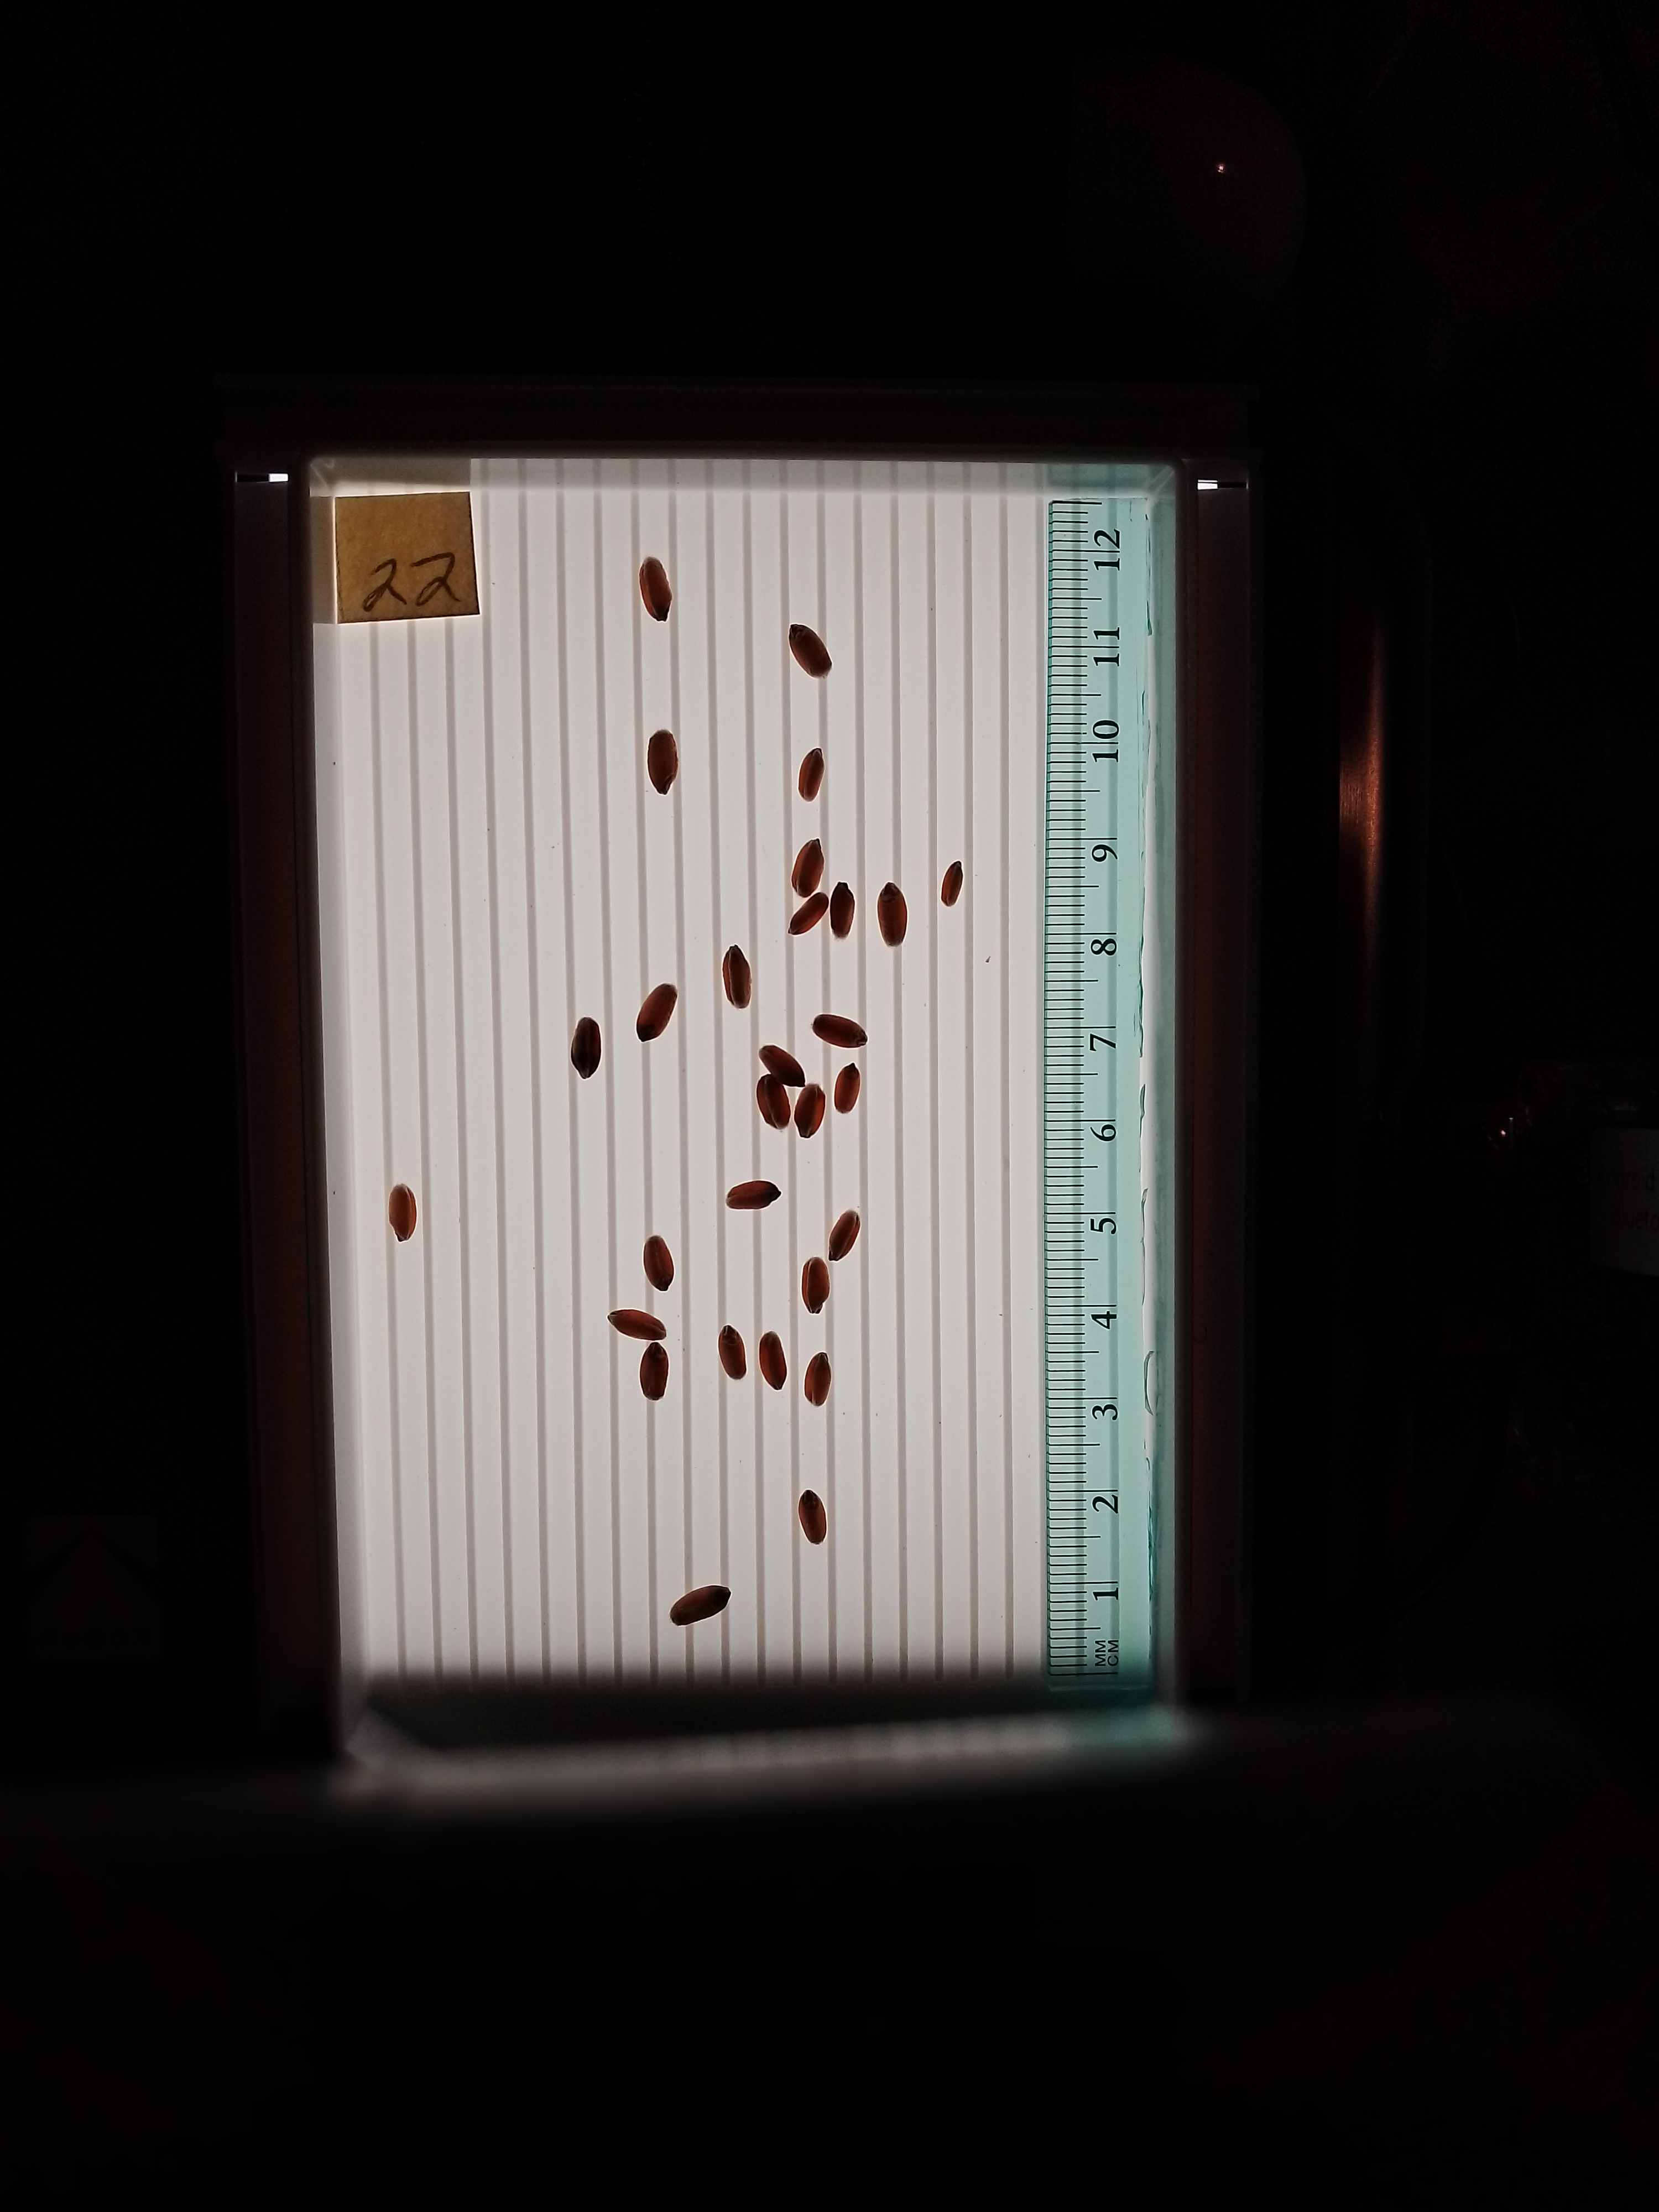seed mask: (670, 1585, 732, 1626), (789, 624, 833, 679), (636, 983, 677, 1041), (638, 558, 672, 622), (758, 1045, 806, 1089), (876, 883, 908, 948), (791, 838, 826, 897), (606, 1309, 667, 1342), (647, 731, 678, 795), (570, 1017, 601, 1079), (812, 1014, 868, 1048), (757, 1073, 790, 1129), (643, 1235, 675, 1293), (722, 945, 750, 1009), (758, 1331, 787, 1391), (788, 893, 830, 935), (801, 1256, 831, 1315), (794, 1083, 825, 1139), (640, 1341, 669, 1401), (726, 1180, 782, 1210), (828, 1209, 860, 1261), (390, 1185, 419, 1242), (717, 1325, 747, 1380), (799, 1490, 827, 1545), (804, 1352, 831, 1407), (830, 881, 854, 937), (834, 1063, 860, 1112), (800, 749, 823, 802), (941, 861, 962, 906)
